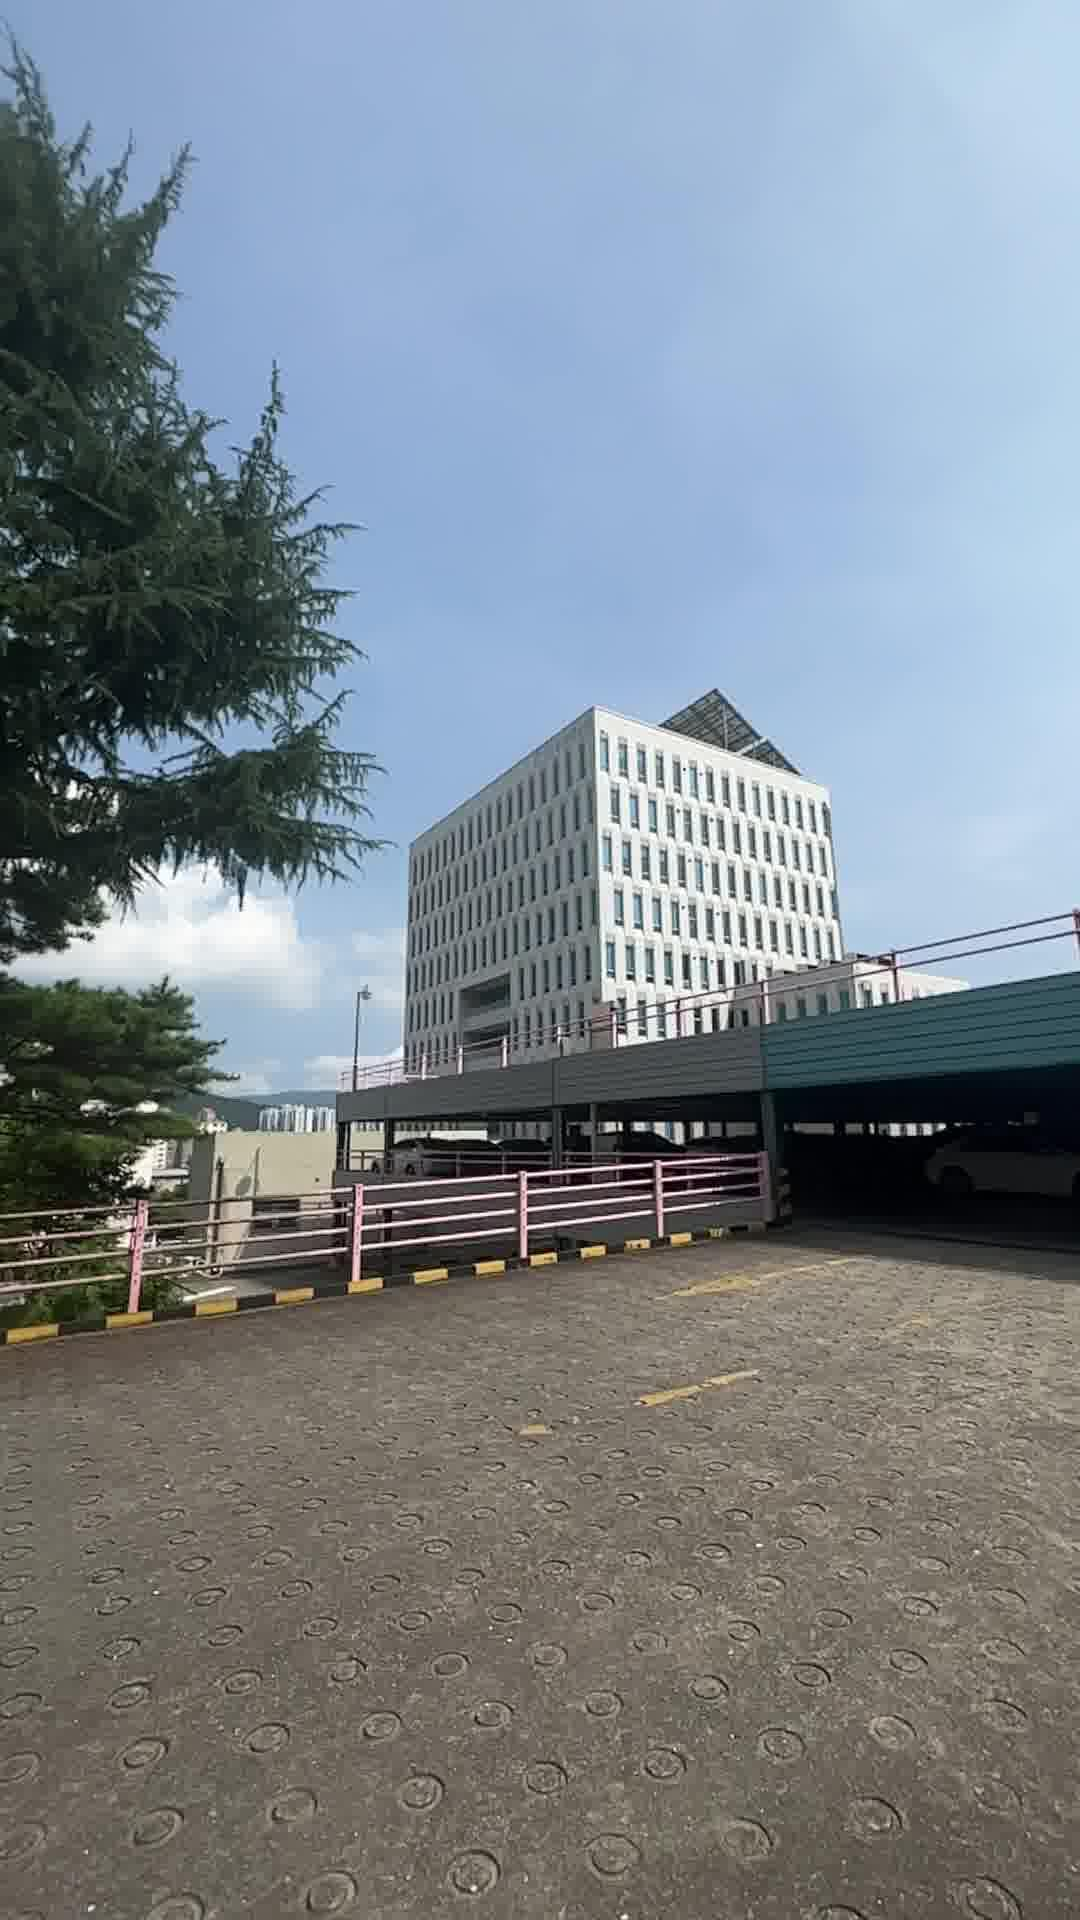building: (402, 640, 843, 1022)
